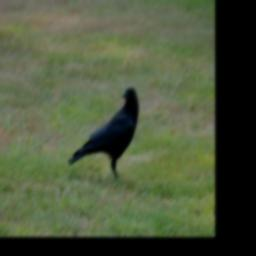Crow: (67, 84, 139, 180)
